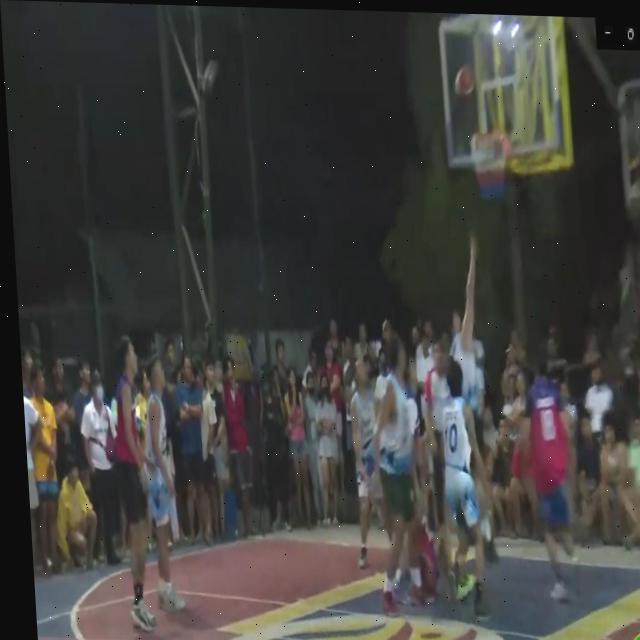basketball: (452, 62, 475, 104)
hoop: (466, 118, 518, 213)
